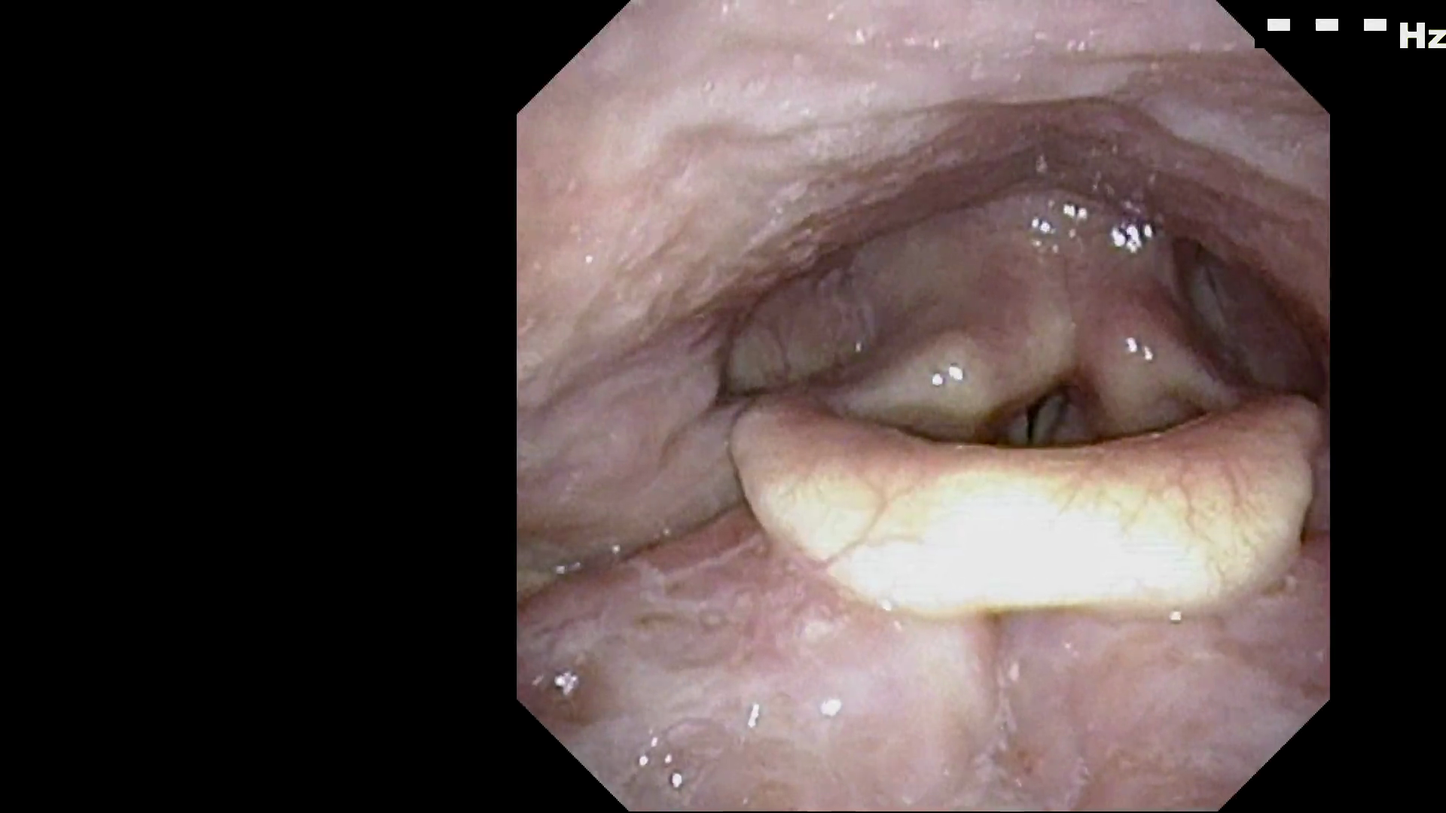epiglottis: (714, 379, 1316, 638)
trachea: (984, 369, 1080, 488)
